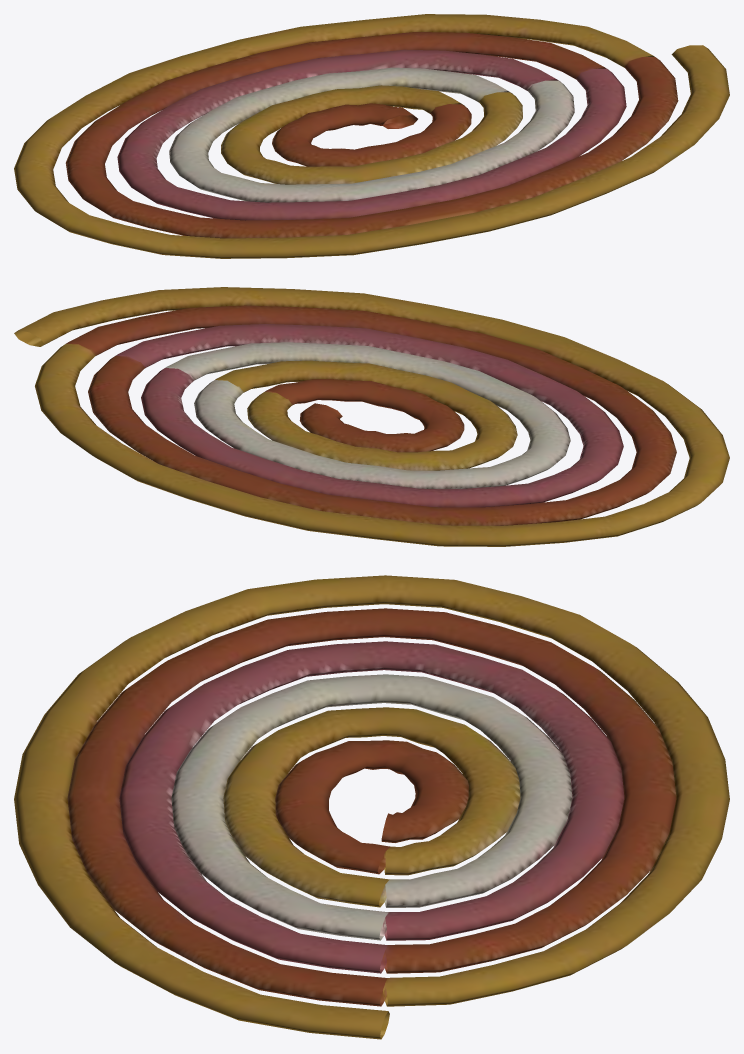
The model's file is rug_braided_warm.glb.
The picture shows the model from 3 angles, top to bottom: view 1: azimuth 30°, elevation 25°; view 2: azimuth 150°, elevation 25°; view 3: azimuth 270°, elevation 25°; orthographic projection. The views are drawn at different scales.
Visible parts, largest first — view 1: prop_rug_braided_warm_felt; view 2: prop_rug_braided_warm_felt; view 3: prop_rug_braided_warm_felt.
Boxes of the visible parts, x1,y1,x2,y2 form: prop_rug_braided_warm_felt: (14,14,729,258); prop_rug_braided_warm_felt: (14,287,729,546); prop_rug_braided_warm_felt: (14,575,729,1039).
Size of the model in its own units: 2.92 by 0.06 by 1.93.
1 material, 1 textured.
